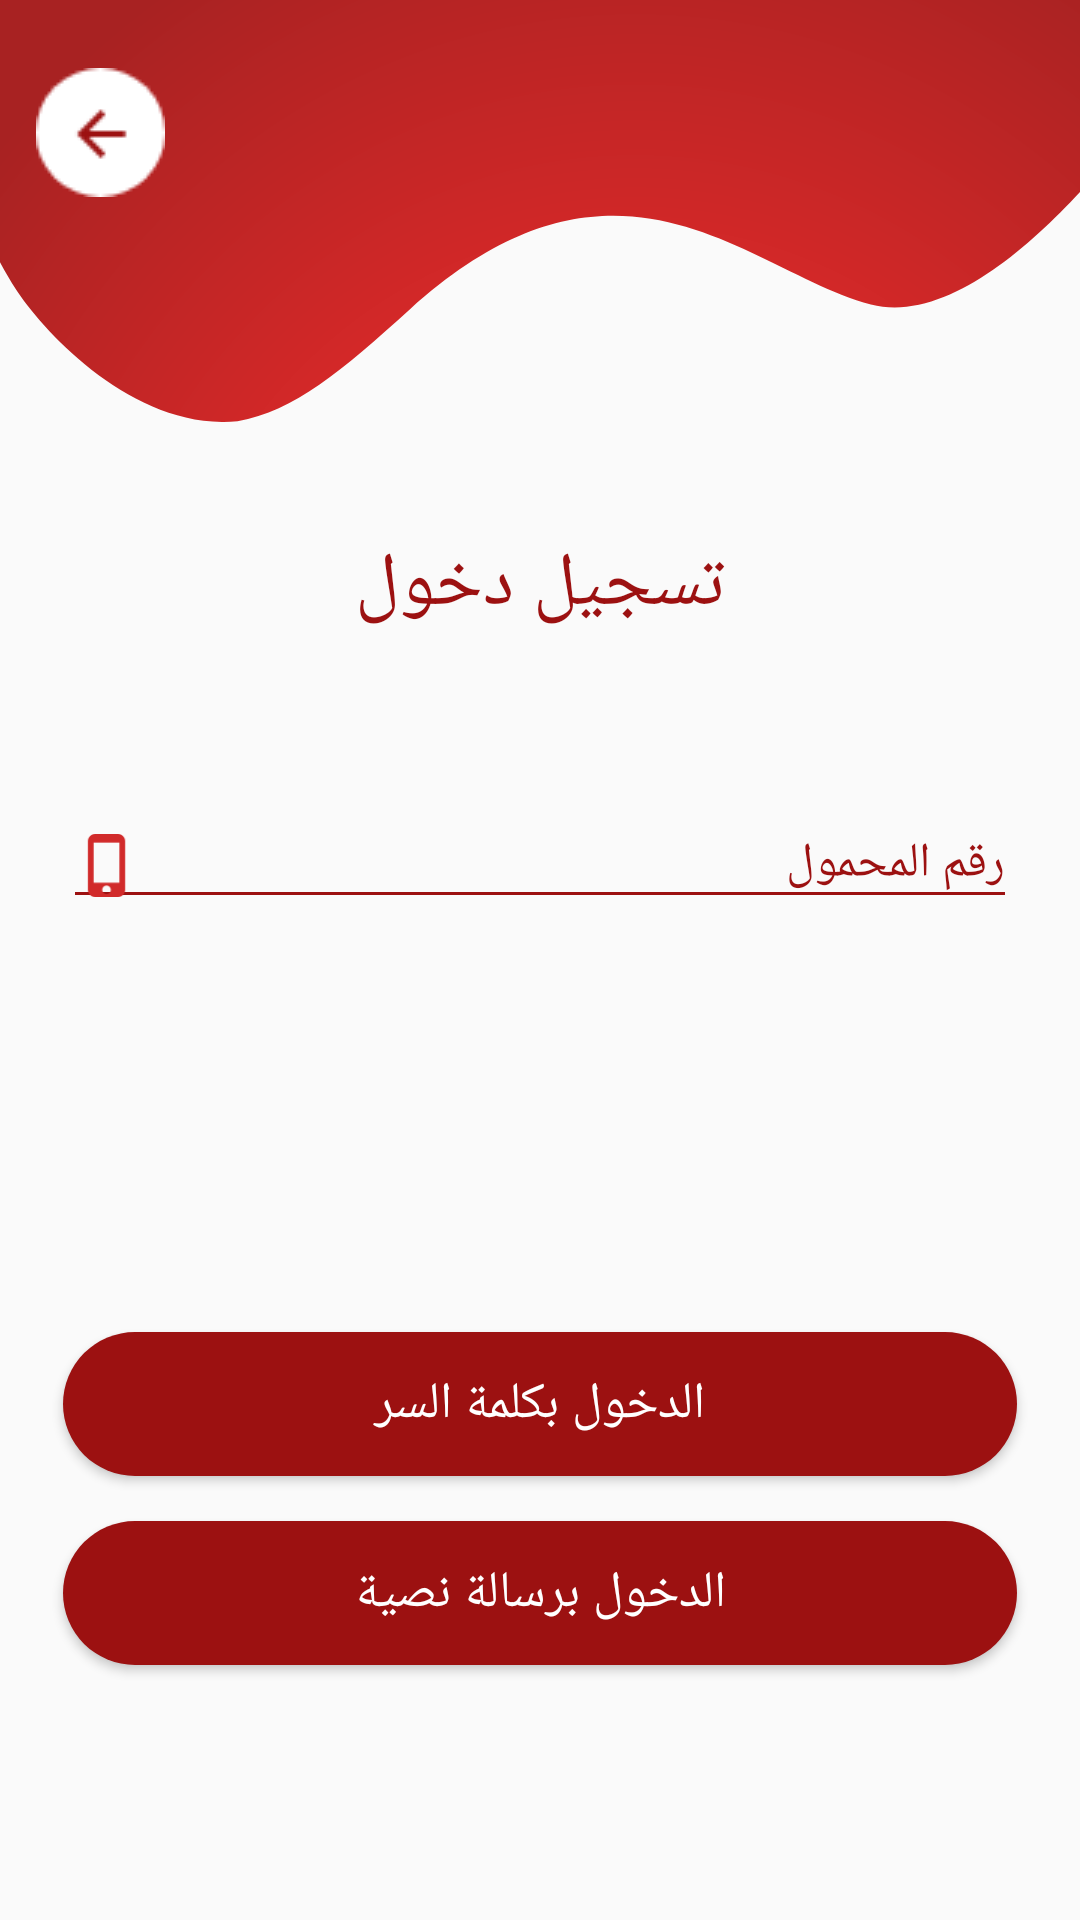

Where to tap for icons on this 1080*1920 app screen, as (x,y):
back oval: (100,132)
